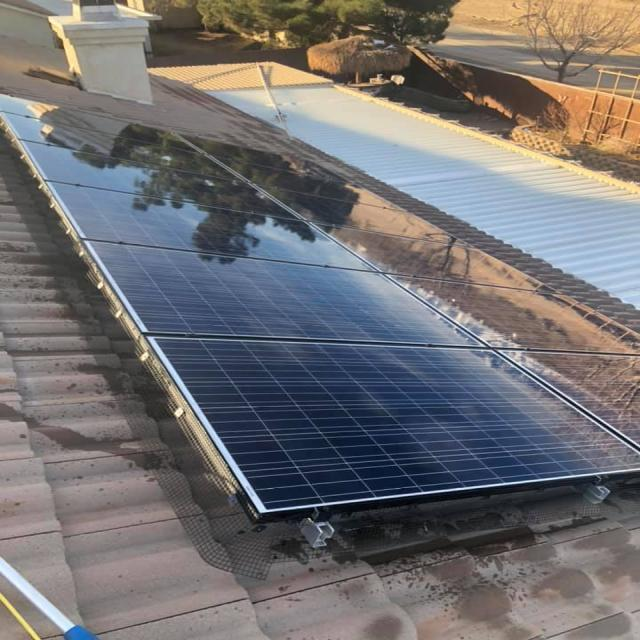clean-solar-panel: (3, 96, 638, 518)
